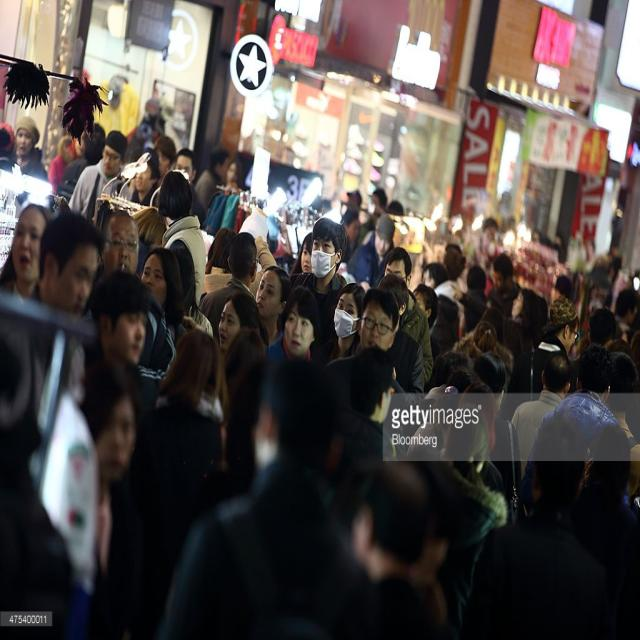body: (158, 354, 384, 640), (452, 400, 640, 639), (426, 188, 639, 352), (389, 363, 510, 639), (0, 100, 256, 230), (0, 206, 107, 490), (132, 326, 226, 640), (316, 456, 464, 639), (542, 417, 640, 639), (518, 340, 630, 512), (434, 402, 509, 640), (91, 206, 178, 385), (77, 266, 161, 447), (79, 369, 139, 577), (458, 349, 526, 532), (219, 322, 272, 500), (509, 350, 573, 488), (318, 284, 403, 377), (288, 215, 349, 344), (155, 165, 207, 310), (384, 244, 434, 390), (309, 172, 405, 248), (200, 225, 279, 305), (376, 272, 426, 392), (157, 235, 214, 338), (602, 348, 640, 502), (0, 202, 50, 304), (138, 245, 186, 346), (268, 283, 320, 376), (316, 280, 368, 369), (346, 213, 395, 293), (254, 264, 294, 352), (98, 206, 144, 281), (218, 291, 270, 354), (423, 350, 472, 405), (411, 281, 442, 364), (286, 231, 318, 280)
